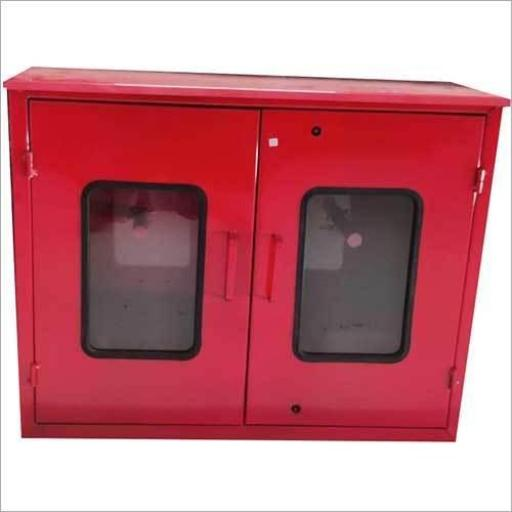fire_hose: (0, 60, 512, 448)
